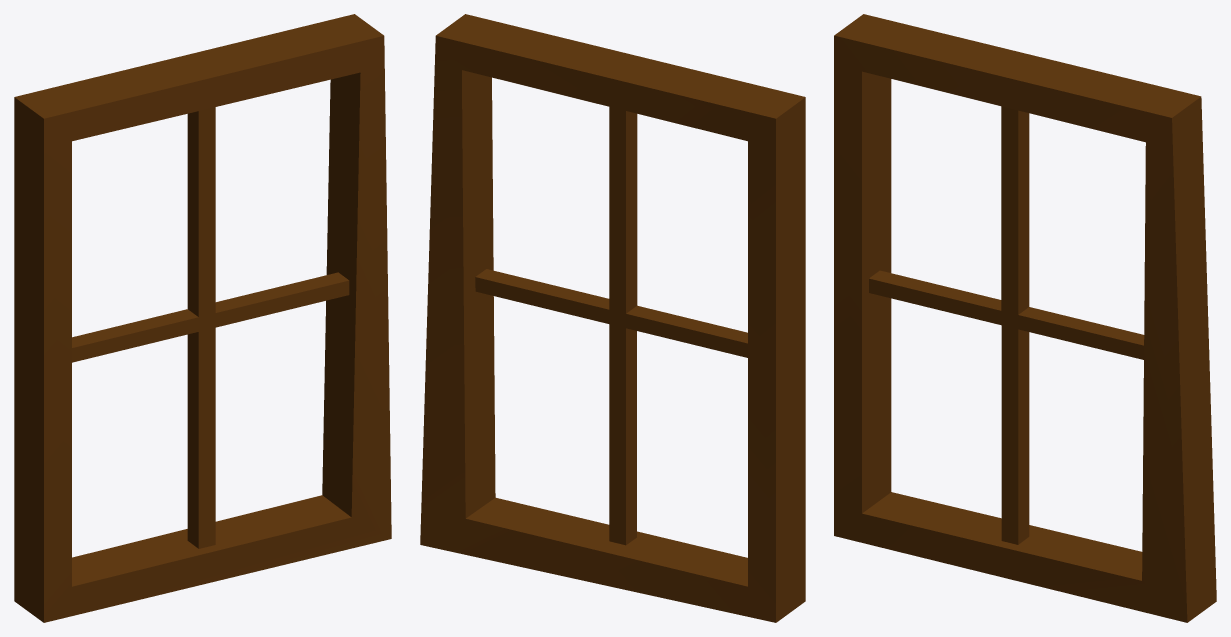
The model's file is Fenster.fbx.
The picture shows the model from 3 angles, left to right: view 1: azimuth 30°, elevation 25°; view 2: azimuth 150°, elevation 25°; view 3: azimuth 330°, elevation 25°; orthographic projection.
Parts seen in each view (by area): view 1: Fenster; view 2: Fenster; view 3: Fenster.
Boxes of the visible parts, x1,y1,x2,y2 form: Fenster: [14, 14, 391, 622]; Fenster: [420, 14, 805, 622]; Fenster: [834, 14, 1216, 622].
Size of the model in its own units: 103 by 143 by 17.81.
